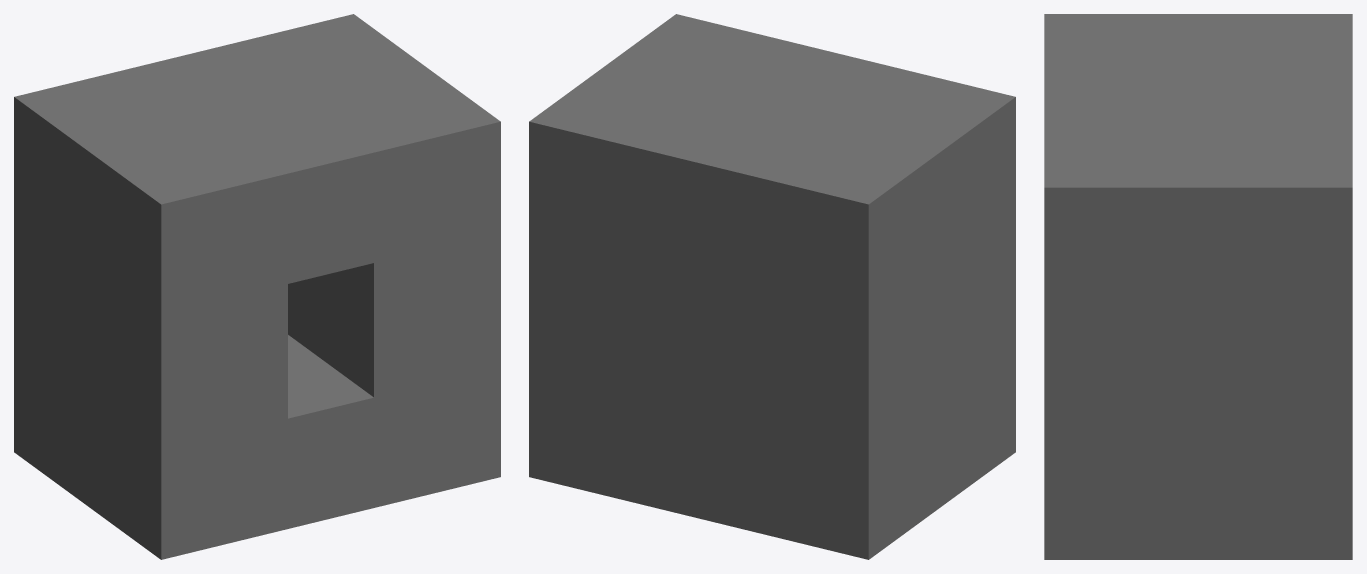
File: hole.obj
3 renders of one model, left to right at view 1: azimuth 30°, elevation 25°; view 2: azimuth 150°, elevation 25°; view 3: azimuth 270°, elevation 25°, orthographic. The views are drawn at different scales.
Parts seen in each view (by area): view 1: hole; view 2: hole; view 3: hole.
Part boxes in pixels (x1,y1,x2,y2): hole: (14, 14, 500, 559); hole: (529, 14, 1015, 559); hole: (1044, 14, 1352, 559).
Size of the model in its own units: 0.08 by 0.08 by 0.06.
1 material, 1 textured.
